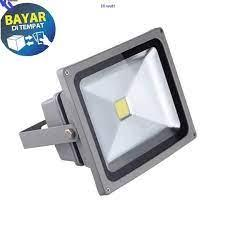Lamp: (8, 10, 214, 202)
